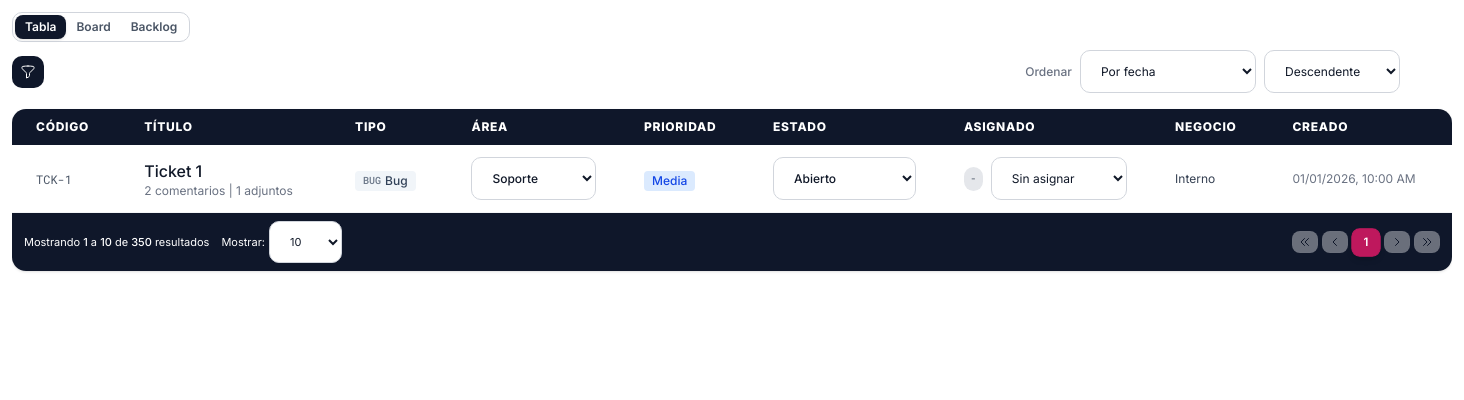
TicketsManager › cambio de vista › avisa en board cuando hay mas tickets de los que caben
Click the button "Board".
click(94, 27)  # box [66,15,121,39]
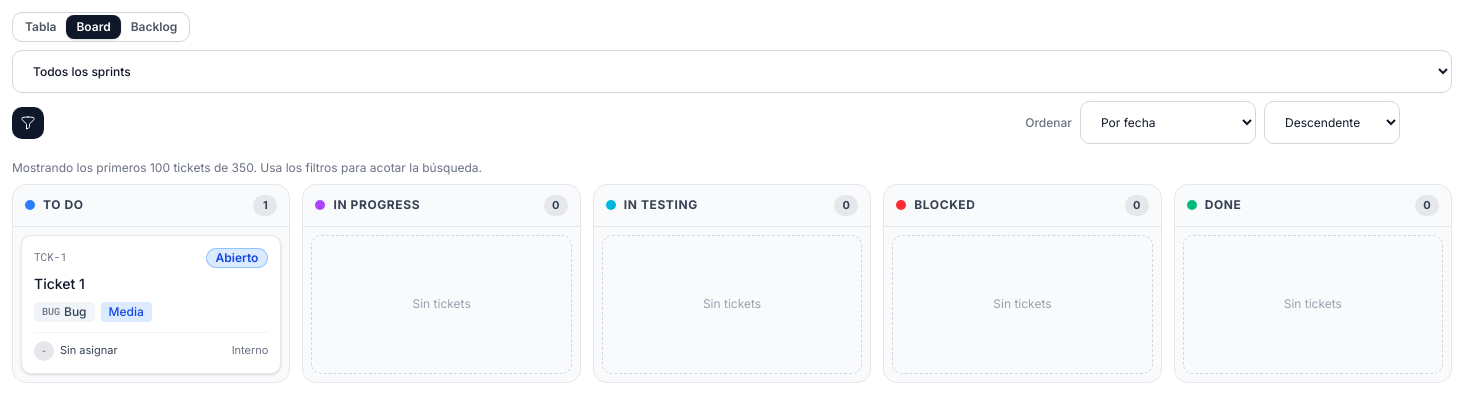
Expected: the text "Mostrando los primeros 100 tickets de 350" is shown, [12,160,482,175]
